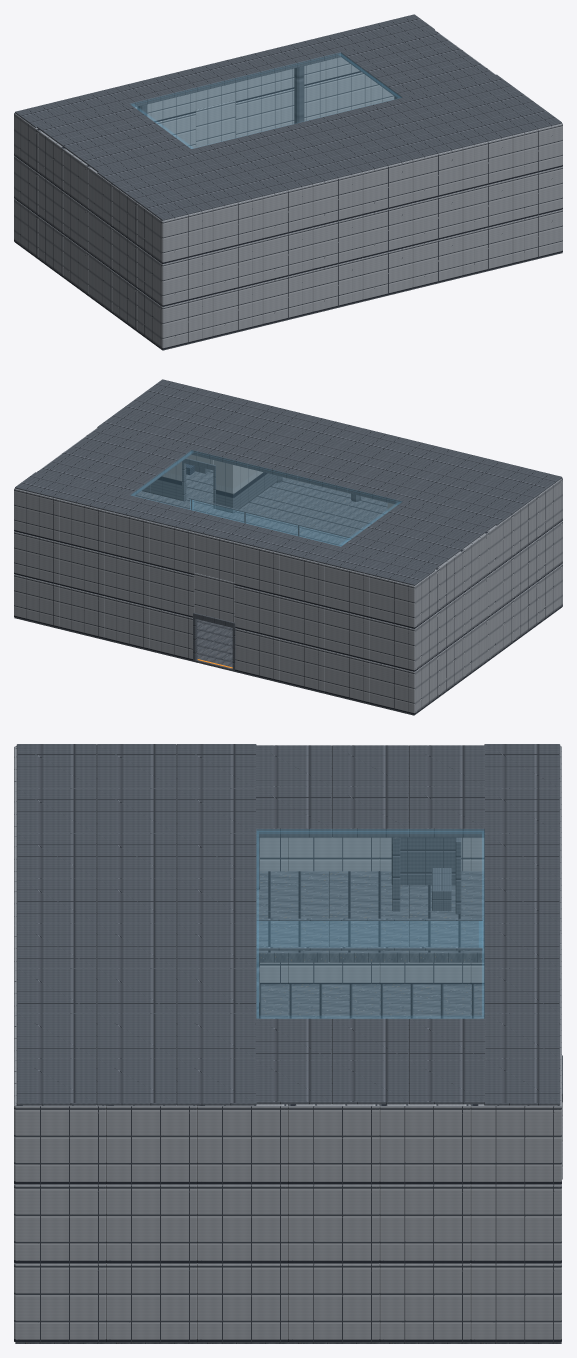
Rendered from preface_residential_sector.glb.
The picture shows the model from 3 angles, top to bottom: view 1: azimuth 30°, elevation 25°; view 2: azimuth 150°, elevation 25°; view 3: azimuth 270°, elevation 25°; orthographic projection. The views are drawn at different scales.
Parts seen in each view (by area): view 1: Residential_Hallway_Atrium, Atrium_Skylight_And_CurtainGlass, Ground_Service_Vestibule; view 2: Residential_Hallway_Atrium, Ground_Service_Vestibule, Atrium_Skylight_And_CurtainGlass, Upper_Mezzanine_Walkway, Room_2B_Neighbor_Balcony_Suite, Open_Portal_Sector_Exit, Open_Portal_202; view 3: Residential_Hallway_Atrium, Atrium_Skylight_And_CurtainGlass, Upper_Mezzanine_Walkway, Alcove_2C_Upper_Vent_Chase, Ground_Service_Vestibule.
Part boxes in pixels (box(x1,y1,x2,y2)): Residential_Hallway_Atrium: box(14, 14, 562, 350); Atrium_Skylight_And_CurtainGlass: box(131, 52, 401, 148); Ground_Service_Vestibule: box(135, 57, 394, 148); Residential_Hallway_Atrium: box(14, 379, 562, 715); Ground_Service_Vestibule: box(14, 489, 413, 714); Atrium_Skylight_And_CurtainGlass: box(131, 450, 401, 546); Upper_Mezzanine_Walkway: box(135, 470, 387, 546); Room_2B_Neighbor_Balcony_Suite: box(142, 454, 277, 513); Open_Portal_Sector_Exit: box(193, 613, 235, 669); Open_Portal_202: box(182, 458, 215, 508); Residential_Hallway_Atrium: box(14, 744, 561, 1343); Atrium_Skylight_And_CurtainGlass: box(256, 829, 484, 1018); Upper_Mezzanine_Walkway: box(256, 871, 484, 962); Alcove_2C_Upper_Vent_Chase: box(391, 837, 461, 914); Ground_Service_Vestibule: box(560, 747, 561, 1341).
Bounding box in the file's own units: 28.08 × 8.86 × 18.08.
Materials: 4 (4 with a texture image).
